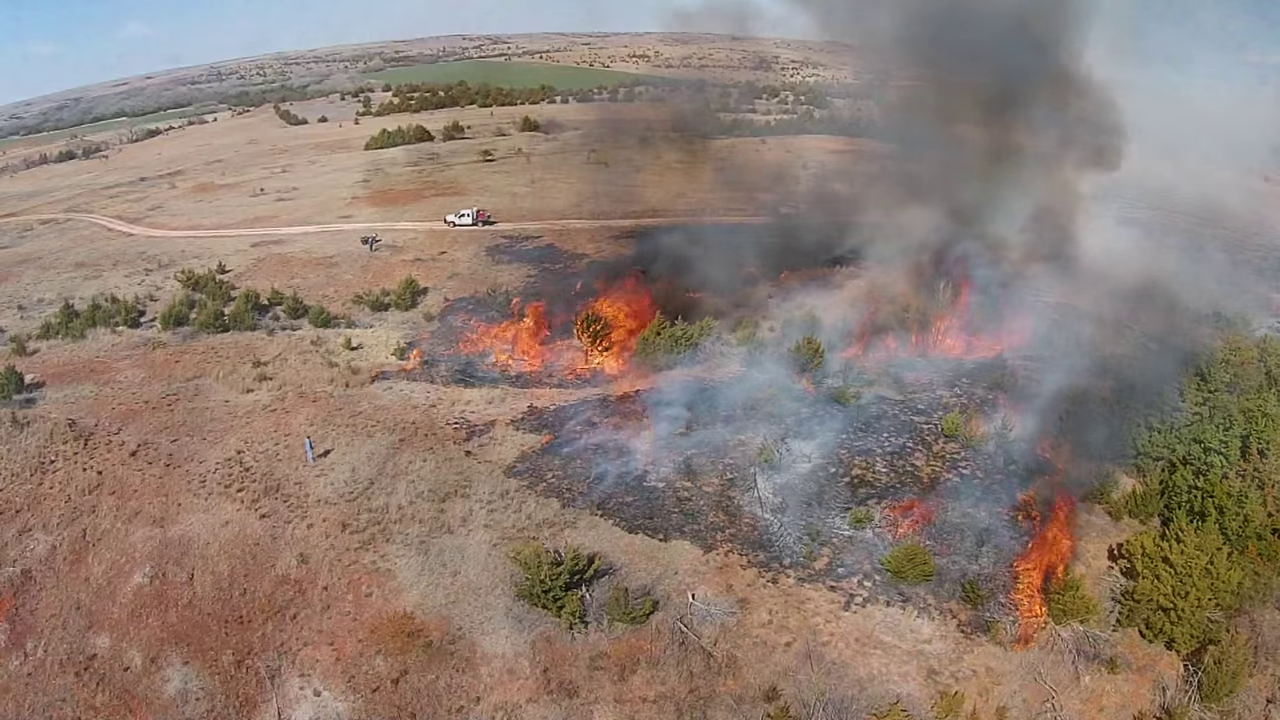forest_fire: (459, 278, 666, 374), (1009, 493, 1073, 646)
